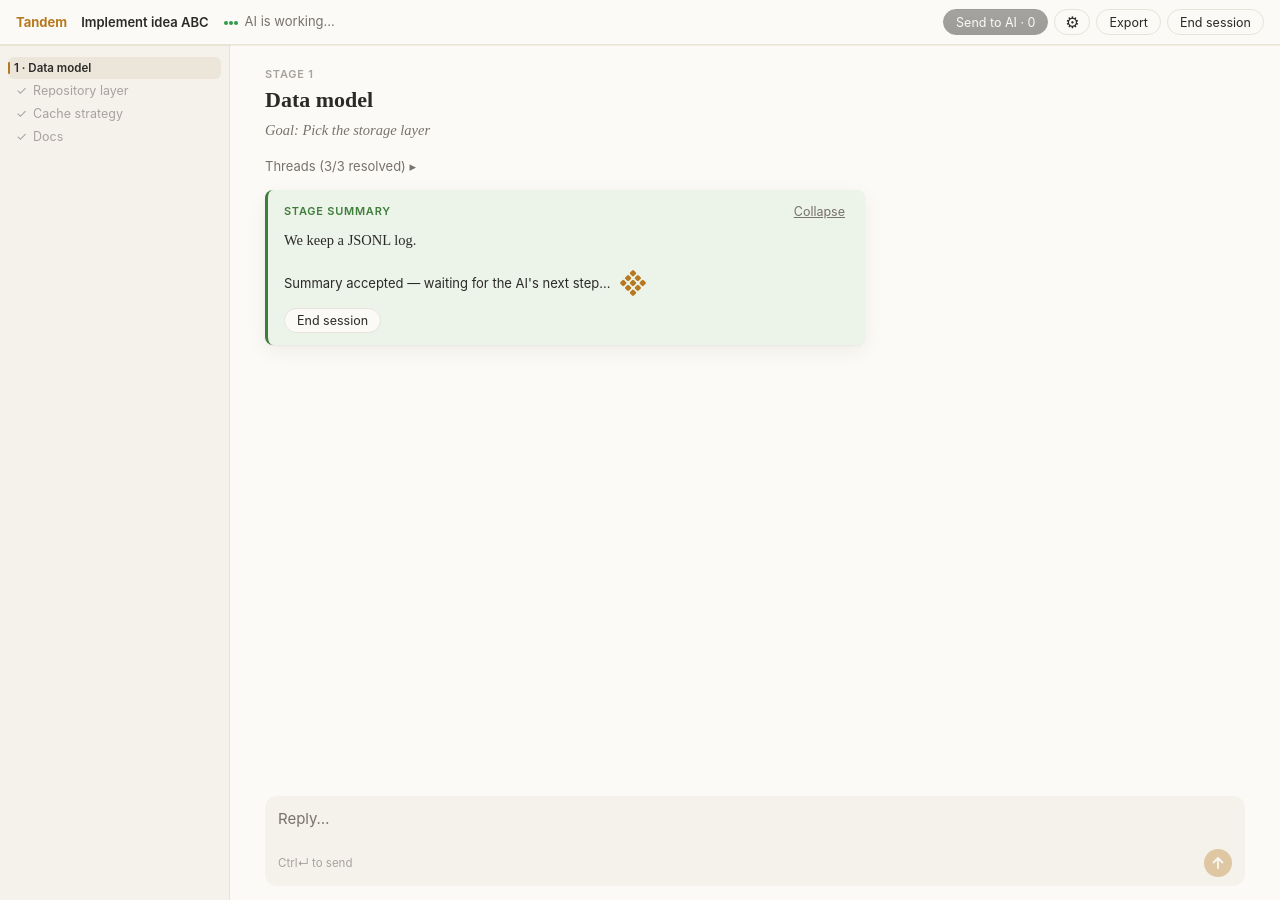
Test case: SessionPage › ends the session from the accepted last stage through the top bar's path
What coordinates should you click on to do the following:
click the button "End session" below "We keep a JSONL log."
I would click on:
 (333, 321)
Its box is x1=284 y1=308 x2=381 y2=333.
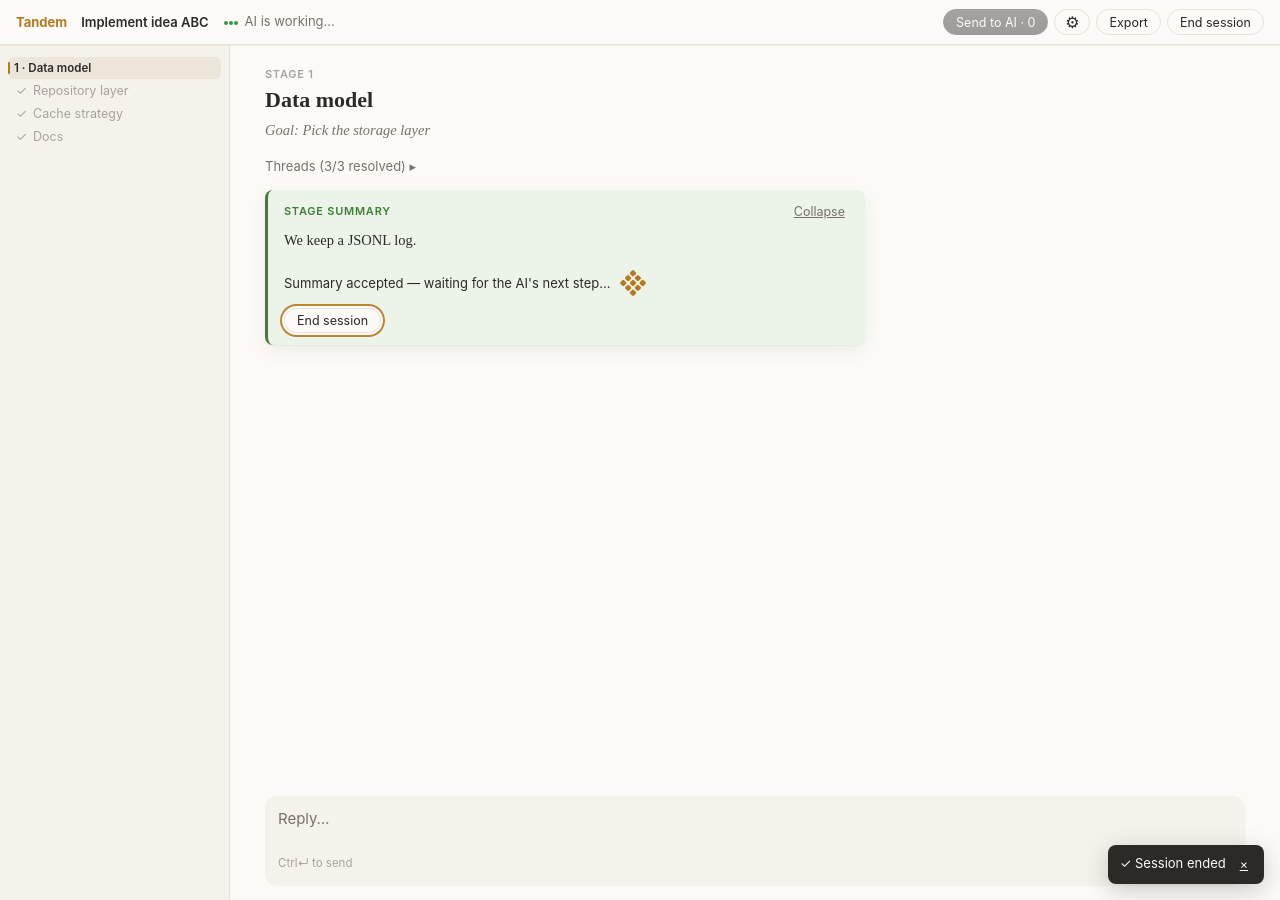
expect the text "✓ Session ended" is shown: met, box x1=1120 y1=855 x2=1226 y2=874
